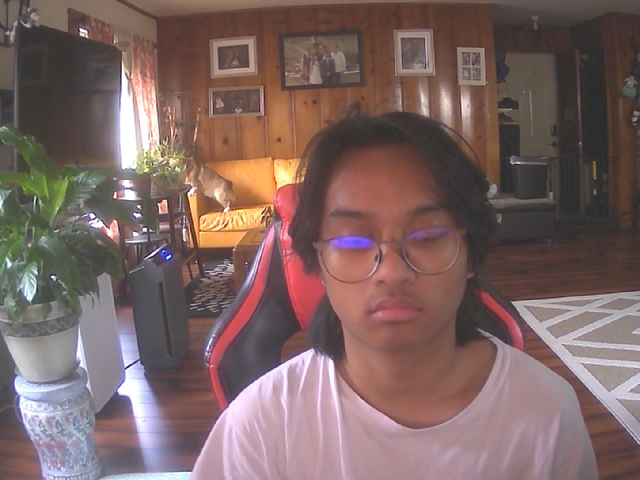neutral: (308, 123, 482, 356)
